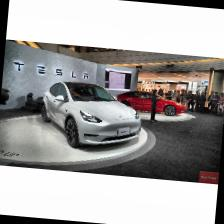EV: (39, 79, 146, 155)
